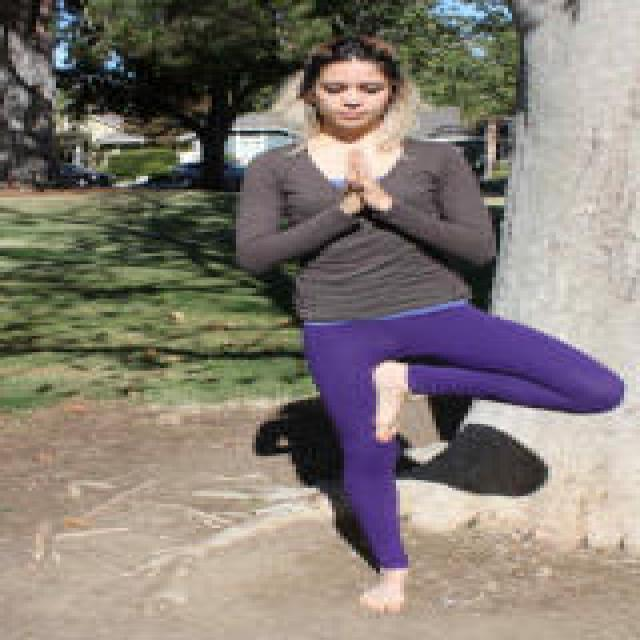yoga-pose tree: (230, 31, 618, 614)
